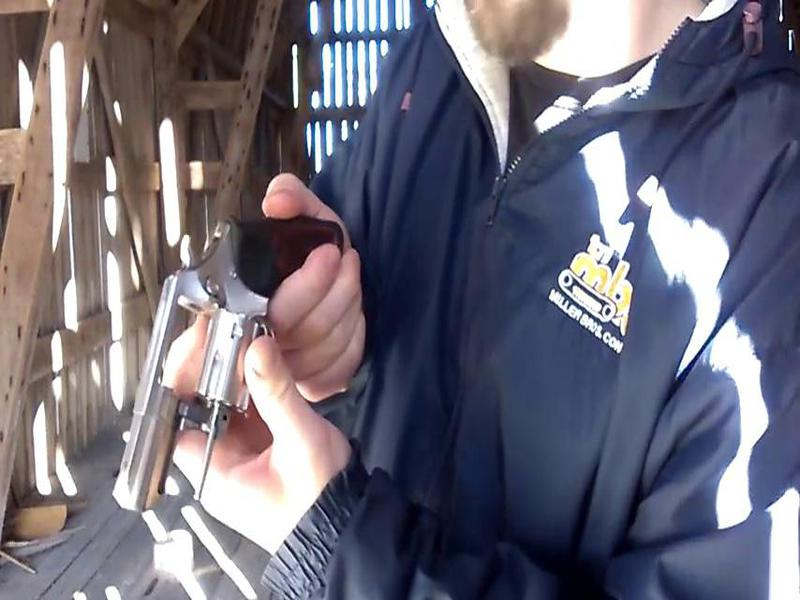Revolver: (95, 196, 357, 531)
